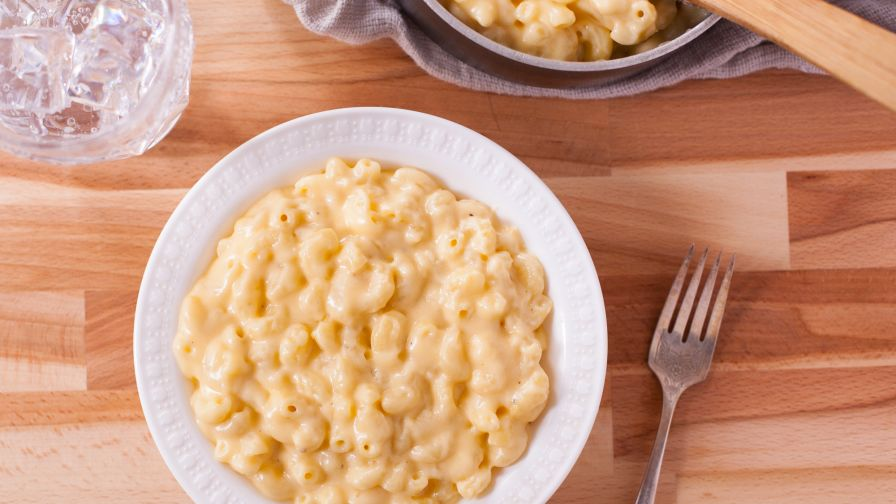macncheese: (206, 193, 539, 474)
